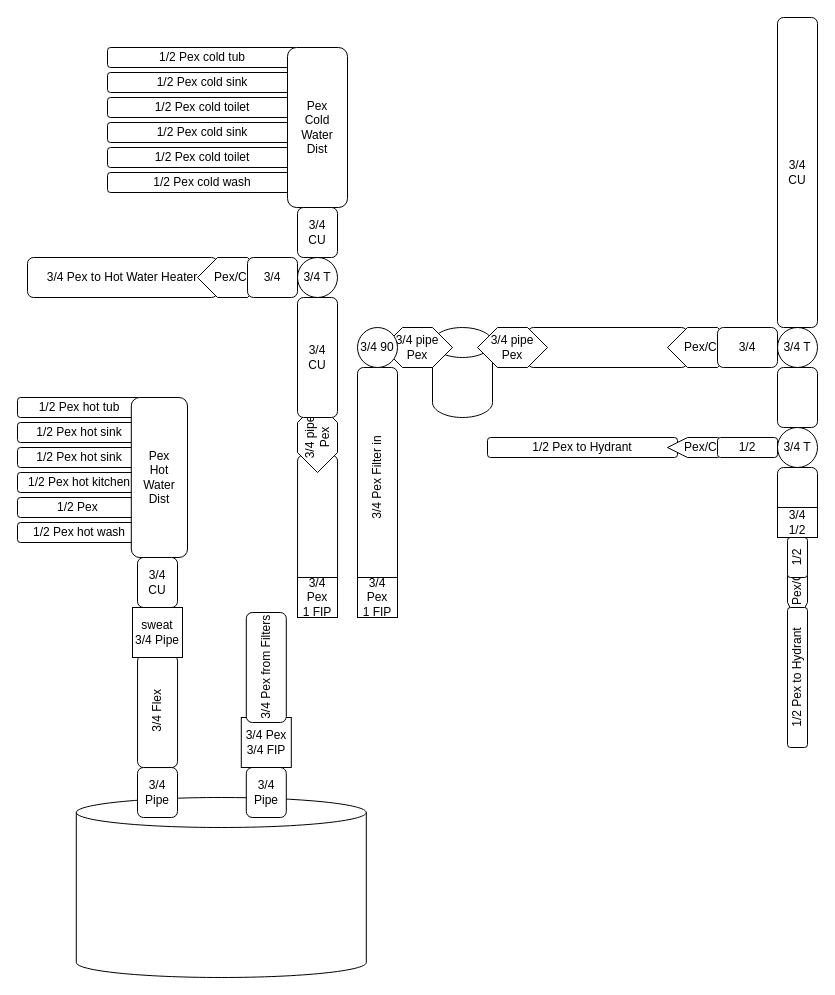
Image size: 835x995. Some labels were removed from this diagram. The shapes that lost their labels are listed below. From the top down, each one's box as (x1, y1, x2, y2) in pixels, then its label:
(526, 326, 688, 368): 3/4 Pex to Filters
(432, 326, 492, 418): Filter
(297, 454, 338, 588): 3/4 Pex Filter out
(75, 796, 366, 978): Hot Water Heater
